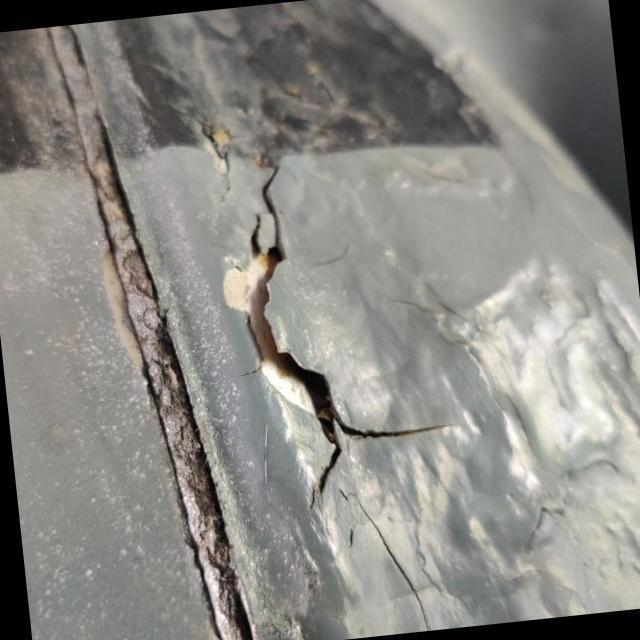Rupture: (204, 120, 482, 532)
